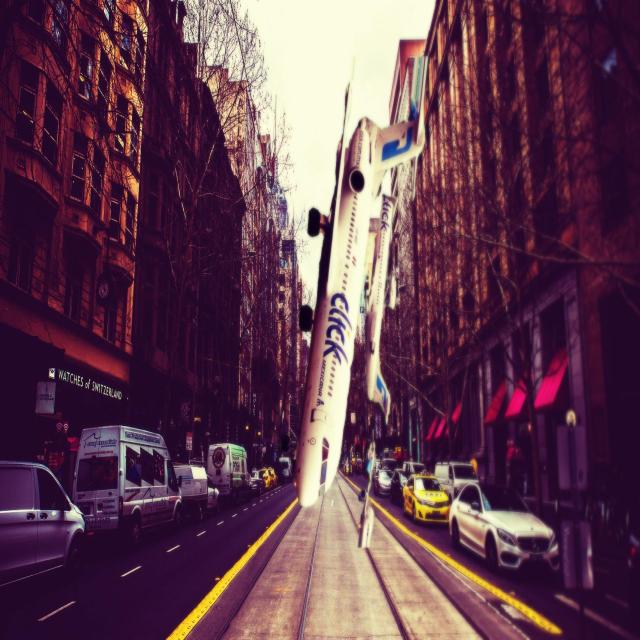airplane: (293, 56, 428, 508)
